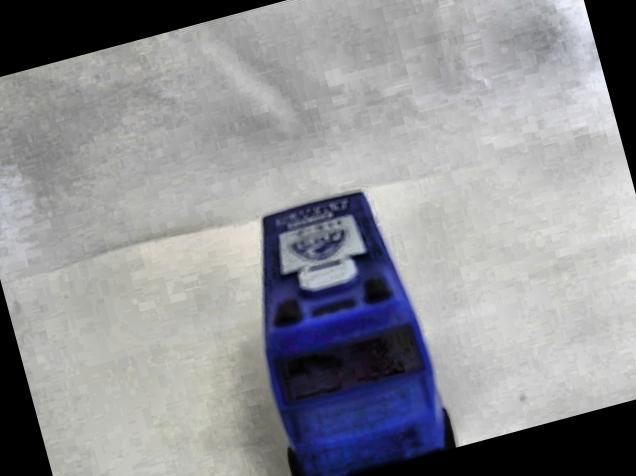police car: (220, 177, 461, 476)
